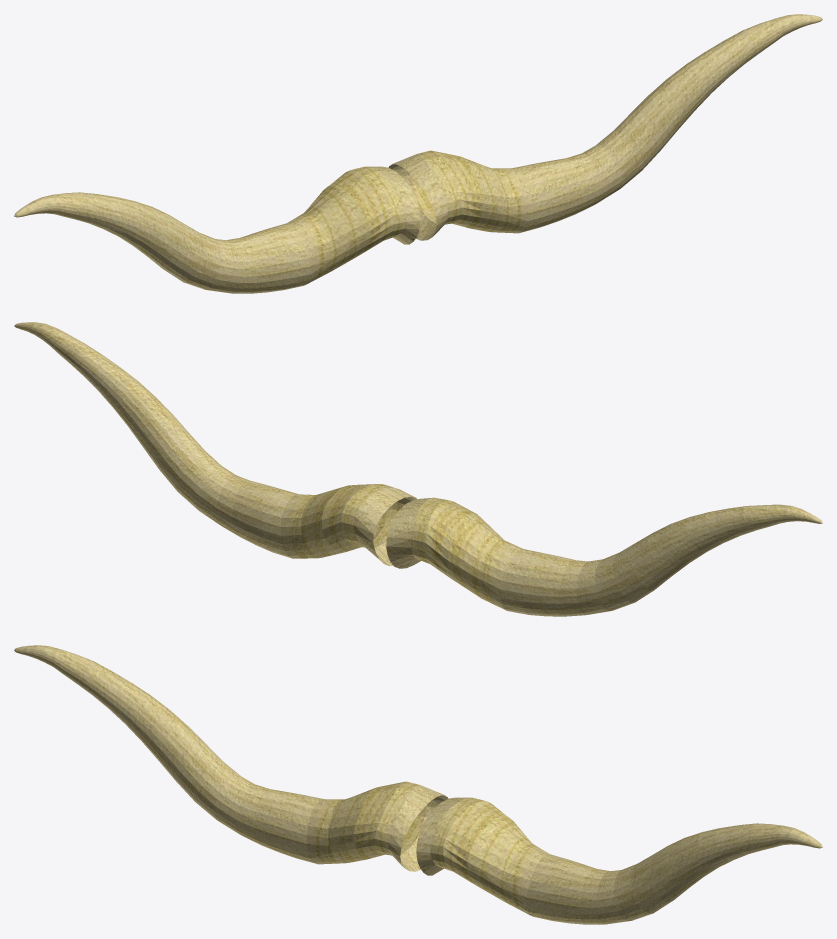
Rendered from mhw_elvs_longhorn_steer_horns_1.glb.
3 views of the same model, one above another, from view 1: azimuth 30°, elevation 25°; view 2: azimuth 150°, elevation 25°; view 3: azimuth 330°, elevation 25° (orthographic).
Parts seen in each view (by area): view 1: mhw_elvs_longhorn_steer_horns_1; view 2: mhw_elvs_longhorn_steer_horns_1; view 3: mhw_elvs_longhorn_steer_horns_1.
Boxes of the visible parts, x1,y1,x2,y2 form: mhw_elvs_longhorn_steer_horns_1: (14,14,822,293); mhw_elvs_longhorn_steer_horns_1: (14,322,822,616); mhw_elvs_longhorn_steer_horns_1: (14,645,822,924).
Size of the model in its own units: 1.06 by 0.1984 by 0.1098.
Materials: 1 (1 with a texture image).
